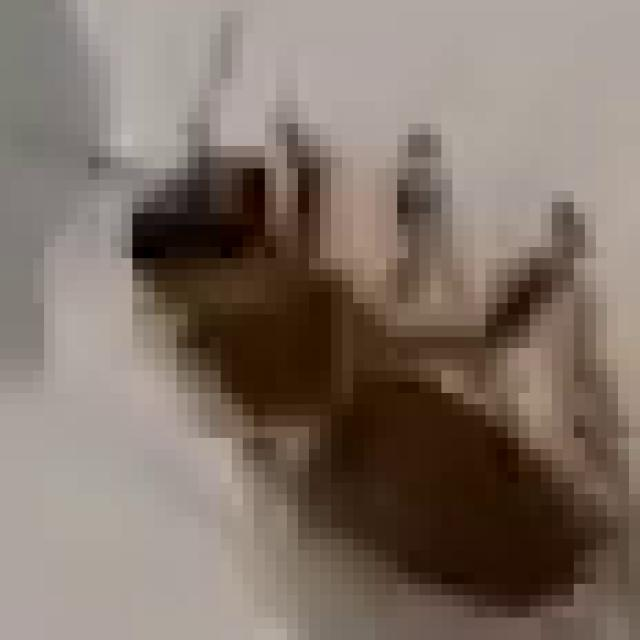honeybee: (63, 108, 614, 590)
